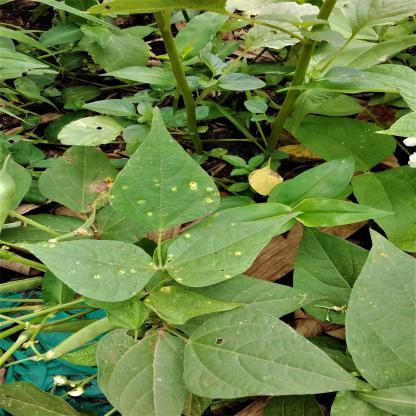Beans_Rust: (190, 308, 364, 402), (104, 105, 222, 229), (347, 228, 413, 392), (8, 236, 167, 300), (160, 212, 298, 285), (145, 286, 243, 323)
